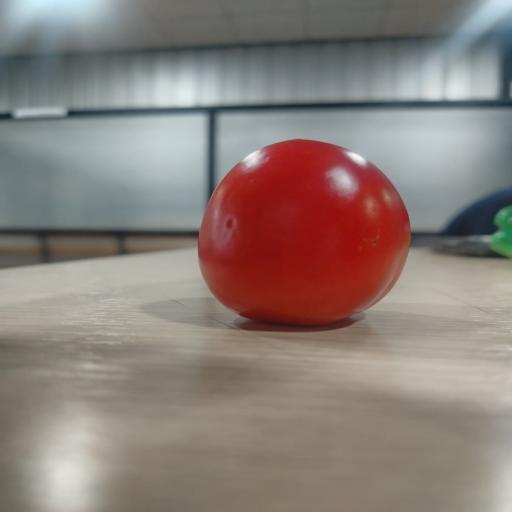ripe: (198, 140, 410, 325)
